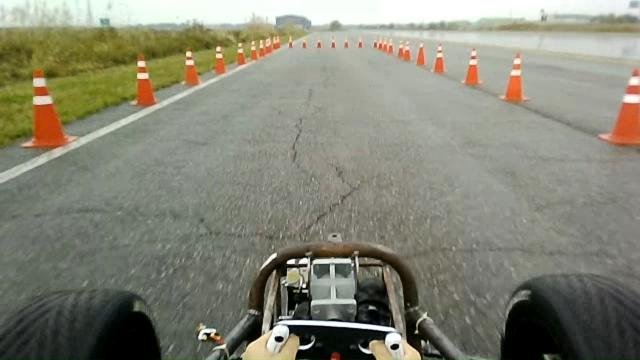red cone: (20, 68, 78, 148), (592, 68, 633, 146), (128, 52, 158, 107), (498, 52, 529, 103), (462, 48, 482, 86), (181, 49, 201, 86), (432, 43, 446, 74), (213, 44, 226, 74), (236, 42, 247, 65), (416, 42, 425, 66), (250, 40, 258, 60)
